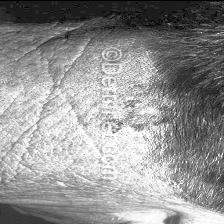Potentially Malignant Skin Tumors: (110, 96, 152, 140)
